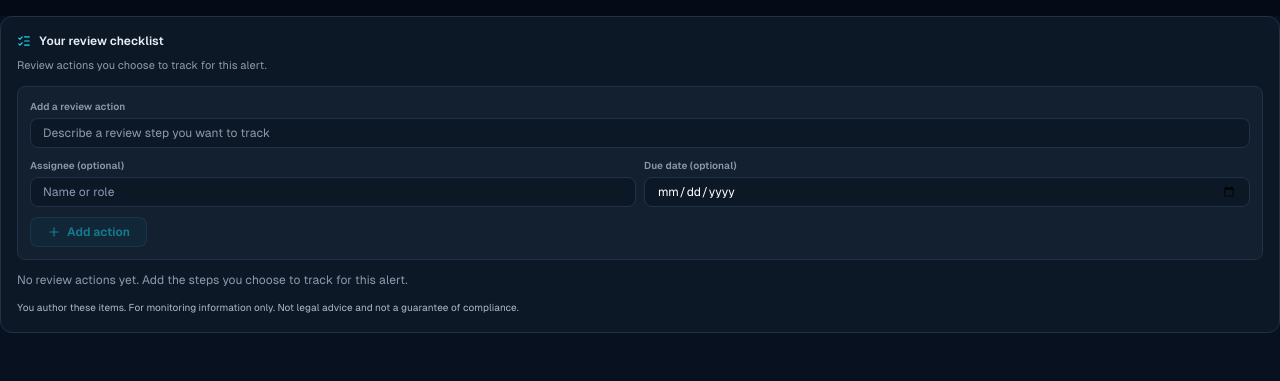
Scenario: AlertChecklistPanel › adding an action posts it and appends it to the list
Expected: the text "No review actions yet" is shown, [17,272,408,286]
In the field labelled "Add a review action": [640, 132] box [30,118,1250,148], type "Check the effective date"
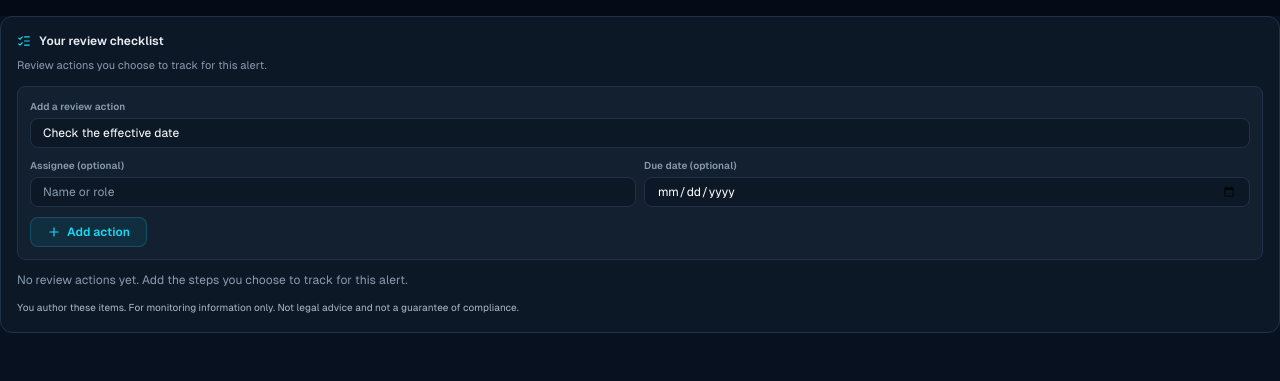
Click the button "Add action": [88, 232] box [30,216,147,246]
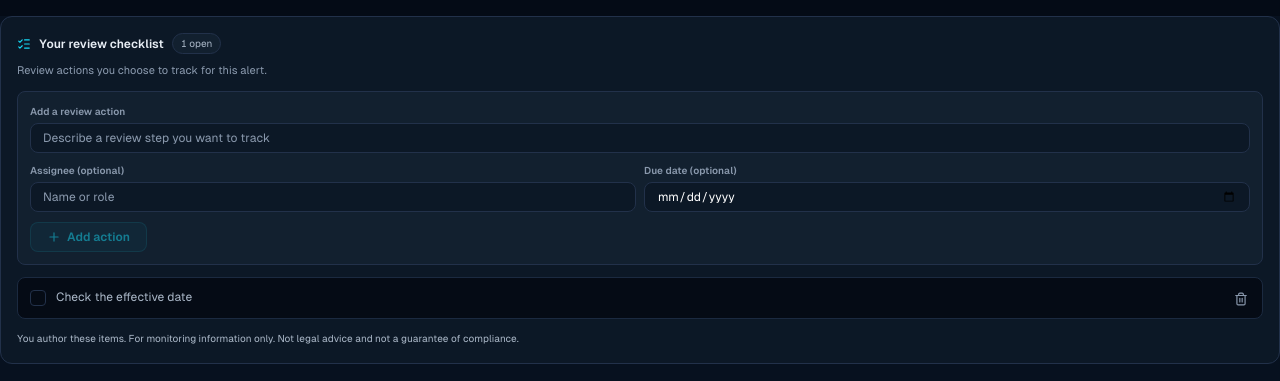
Now the text "Check the effective date" is shown, box [56,290,192,304]
